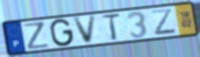3: (126, 9, 150, 40)
G: (49, 18, 75, 48)
T: (99, 12, 122, 42)
V: (72, 14, 99, 45)
Z: (22, 20, 52, 51), (149, 8, 179, 36)
